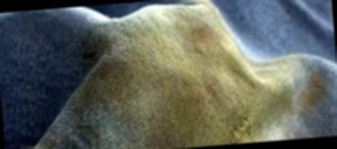earth: (103, 8, 281, 149)
